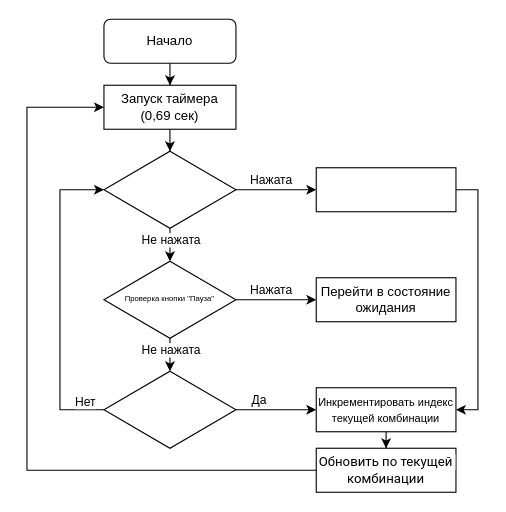
The diagram is 506 pixels wide and 512 high, and some of its shapes have lost their labels. Here are the shapes that lost their labels. From the top down, the box of each, then its label:
(103, 150, 236, 228): Проверка кнопки "Сброс"
(315, 167, 456, 212): Установить текущую комбинацию на "0"
(103, 370, 236, 448): Таймер истёк?
